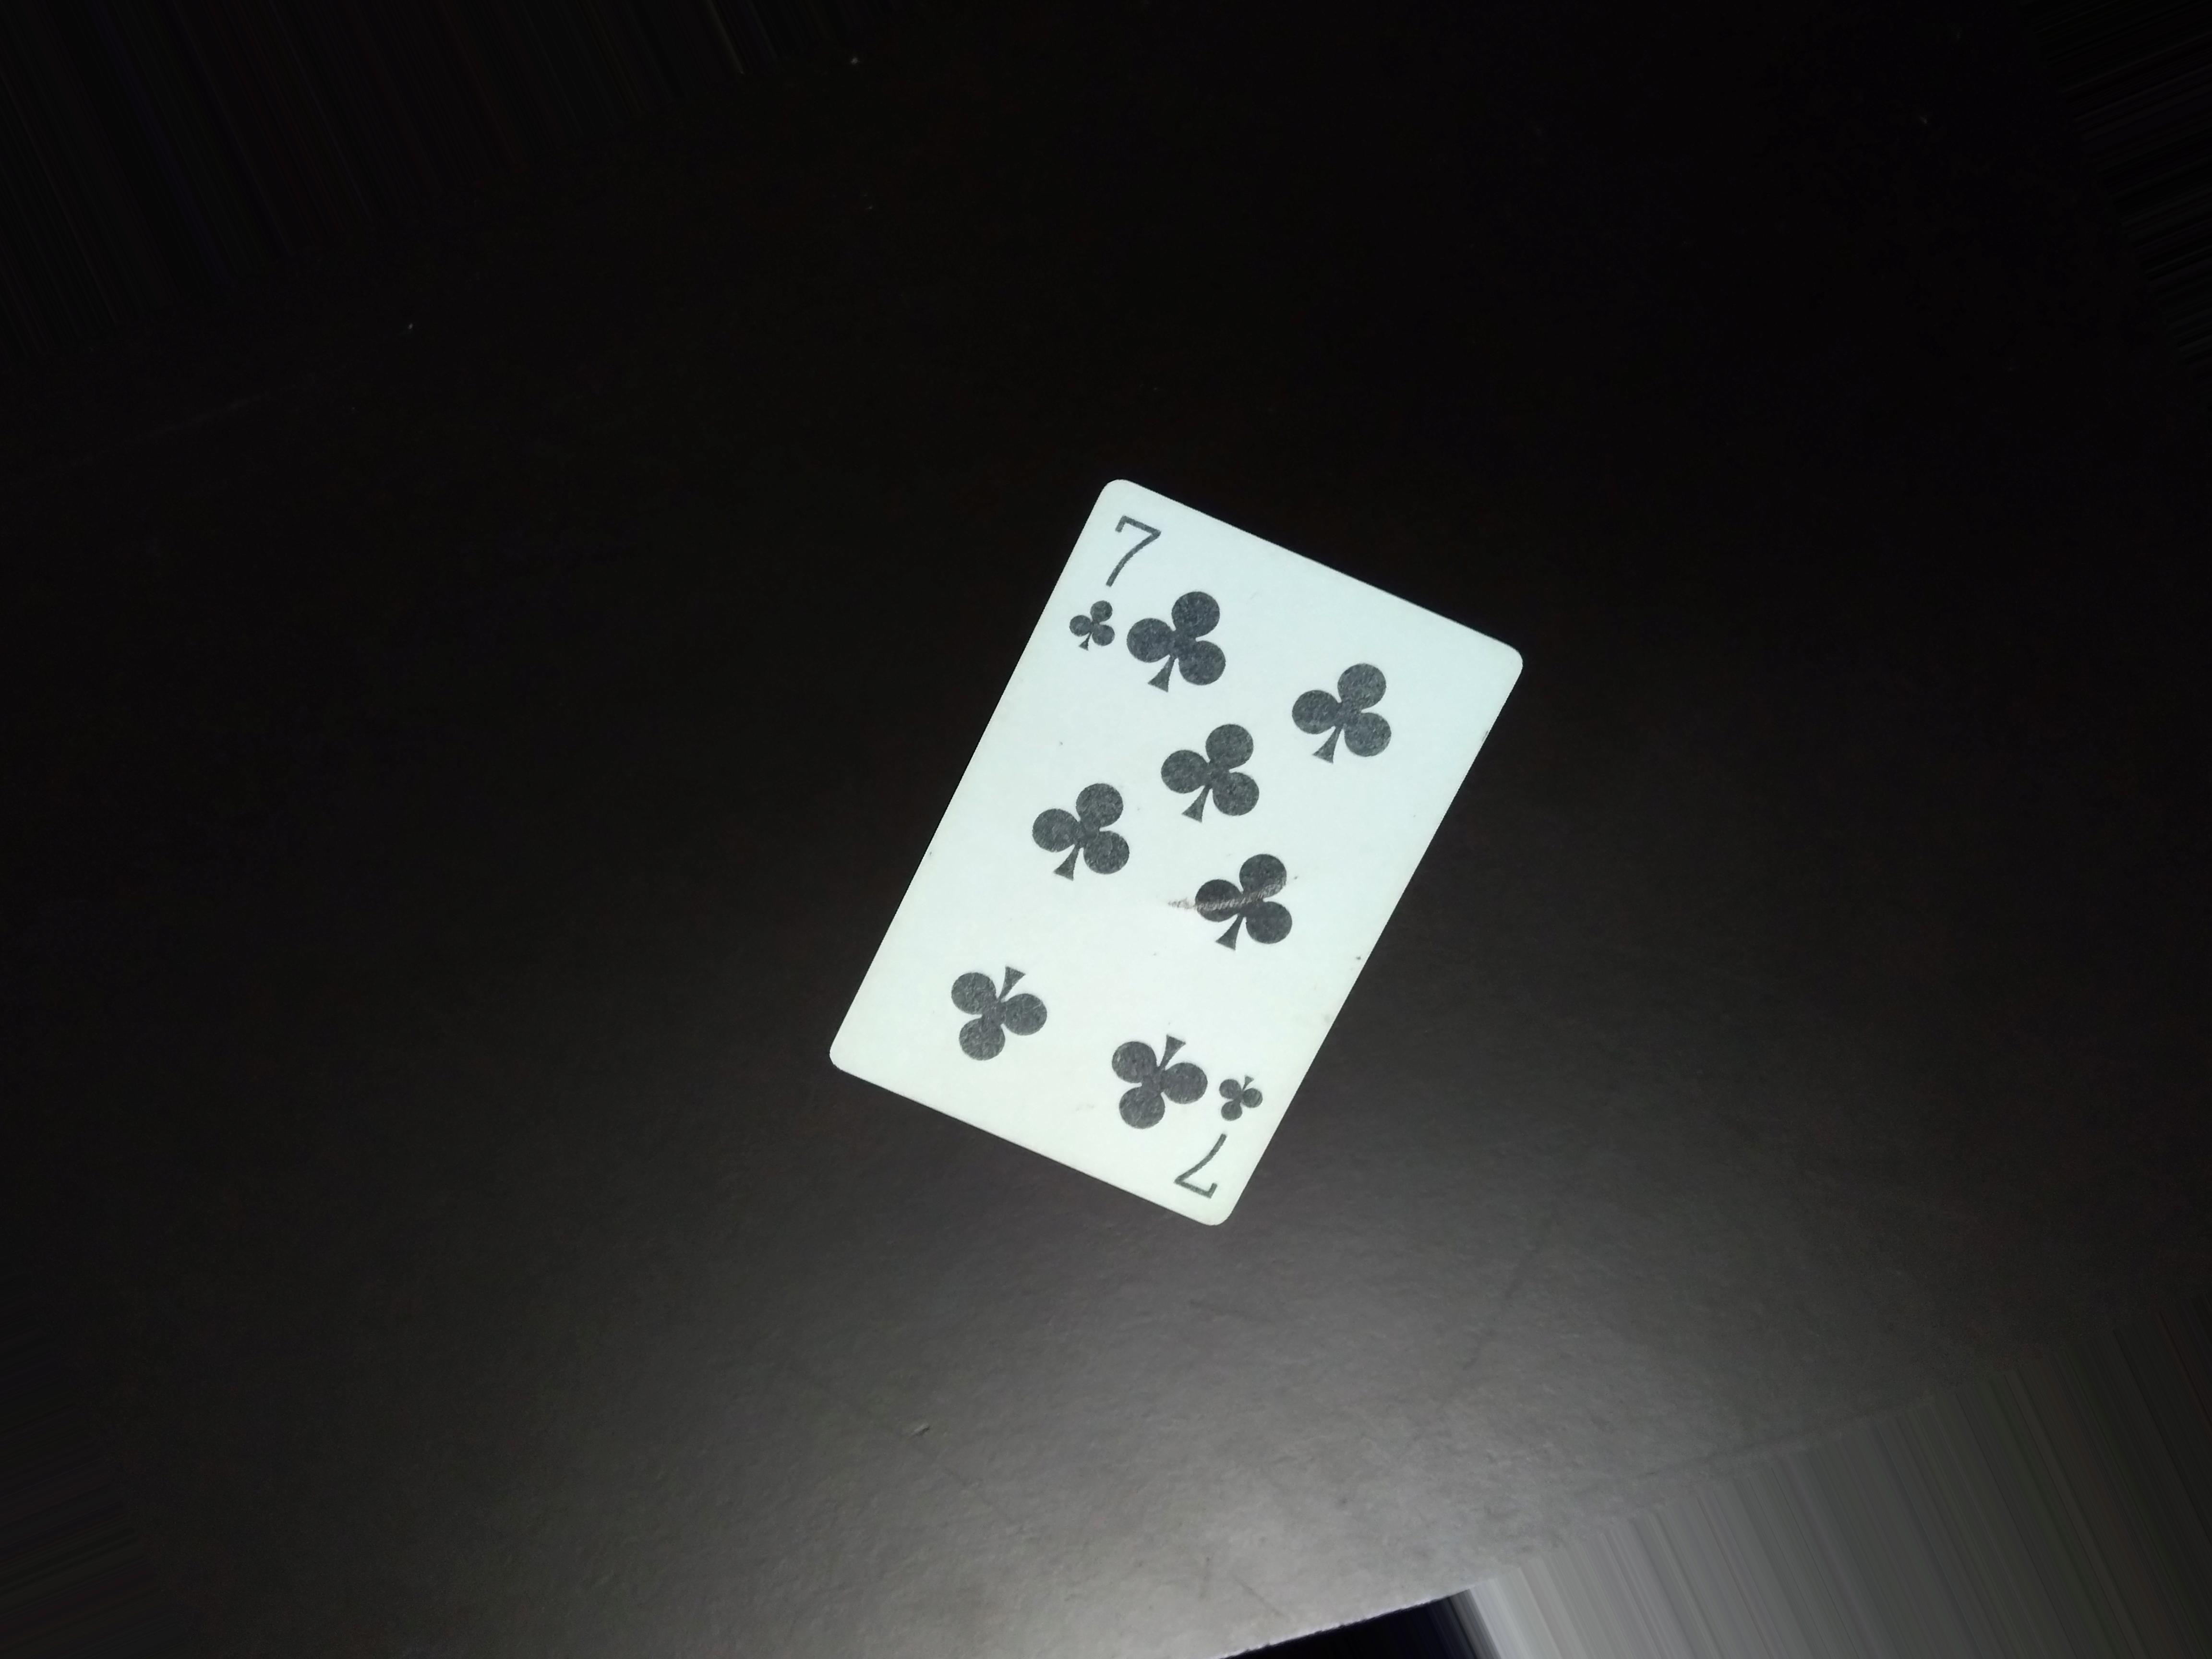7C: (1083, 504, 1160, 666)
